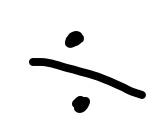div: (29, 31, 147, 113)
